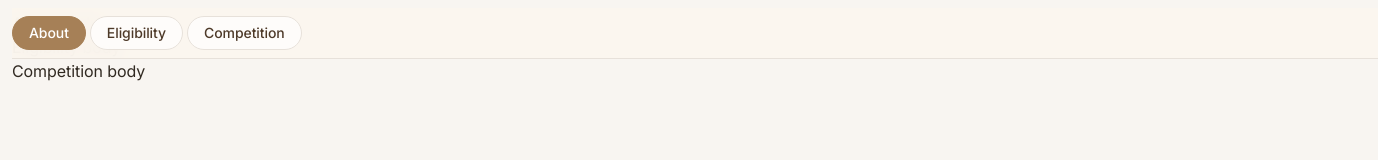
Scenario: ExamDetailAnchorNav (PR11) › clicking a chip scrolls (with smooth behavior) and updates aria-selected
Click the tab with test id "anchor-chip-competition".
click(244, 33)  # box [187,16,302,50]
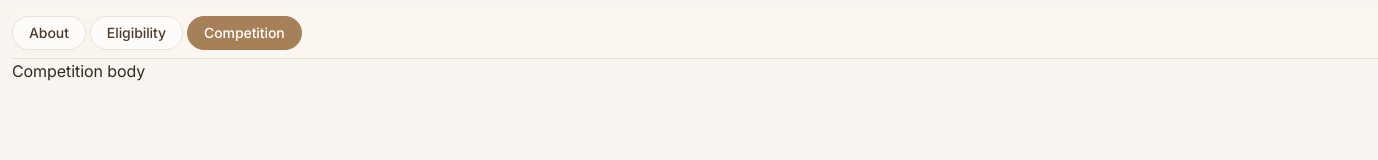
expect the tab with test id "anchor-chip-competition" is selected: met, box [187,16,302,50]
expect the tab with test id "anchor-chip-about" is not selected: met, box [12,16,86,50]
